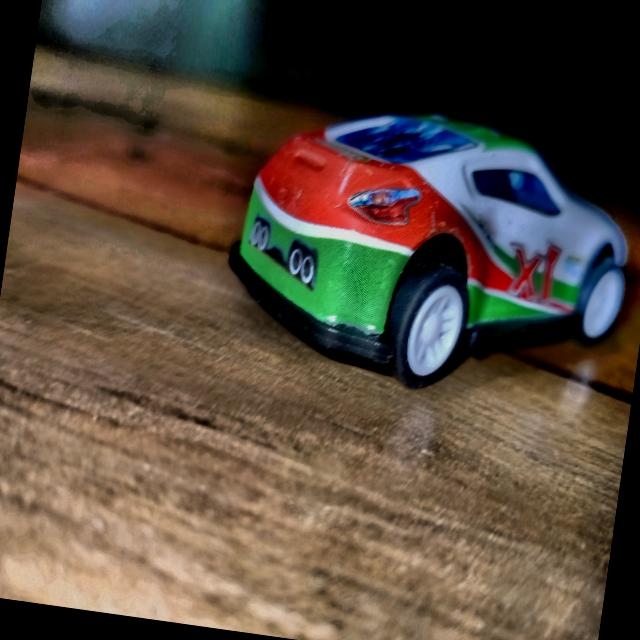Car: (216, 90, 640, 415)
